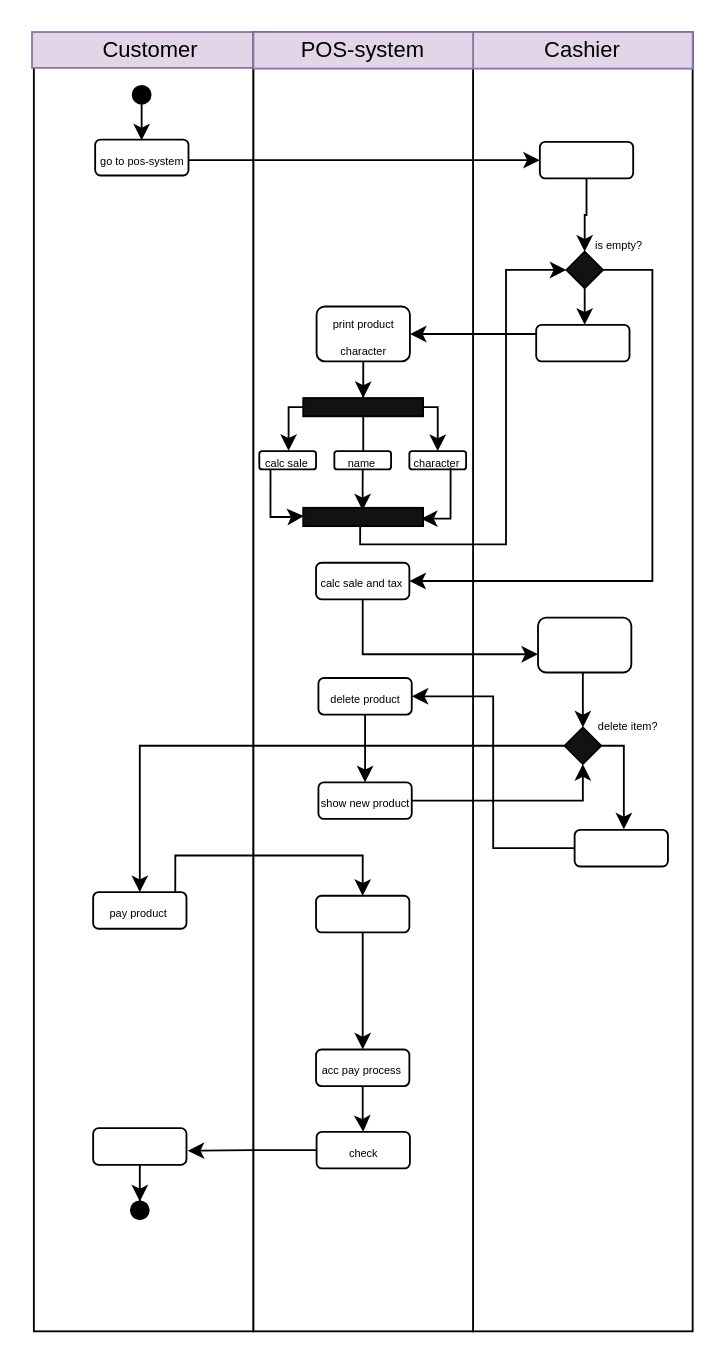
This 725x1363 diagram has some shape labels left out. The centre of each missing label's shape, as x and y in pixels:
"calc sale and tax pay" goes at pixel 583 644.
"enter iden product" goes at pixel 620 847.
"leaves with check" goes at pixel 138 1145.
"new sale" goes at pixel 585 159.
"proces pay" goes at pixel 361 913.
"product identifier" goes at pixel 582 342.
